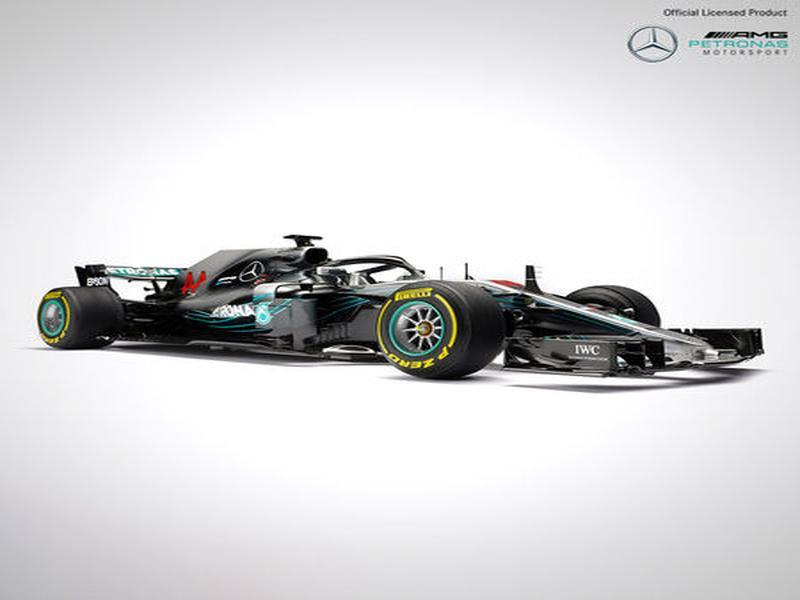f1: (27, 206, 763, 391)
